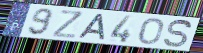4: (108, 14, 134, 44)
9: (27, 7, 55, 36)
A: (77, 13, 106, 41)
O: (137, 17, 165, 45)
S: (162, 19, 193, 49)
Z: (51, 9, 85, 40)
